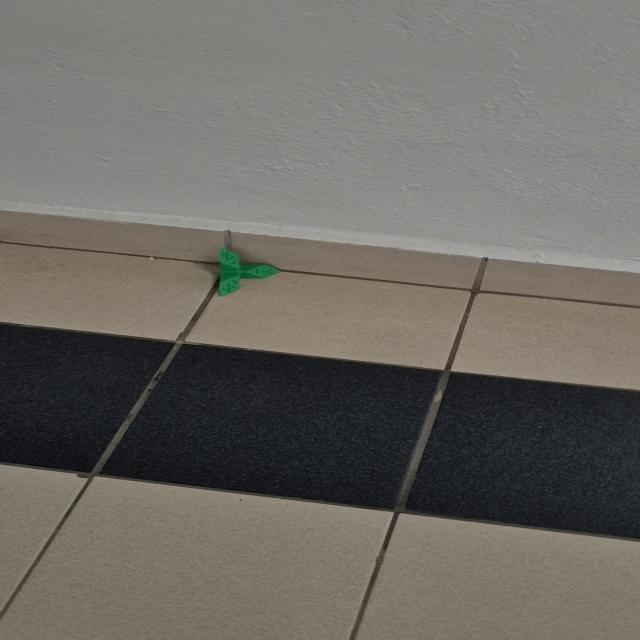objects: (216, 247, 282, 298)
